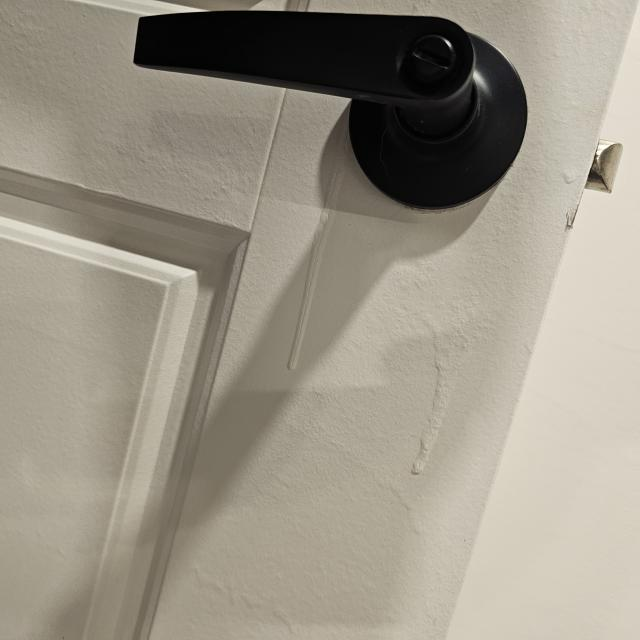door-handle: (134, 11, 528, 210)
